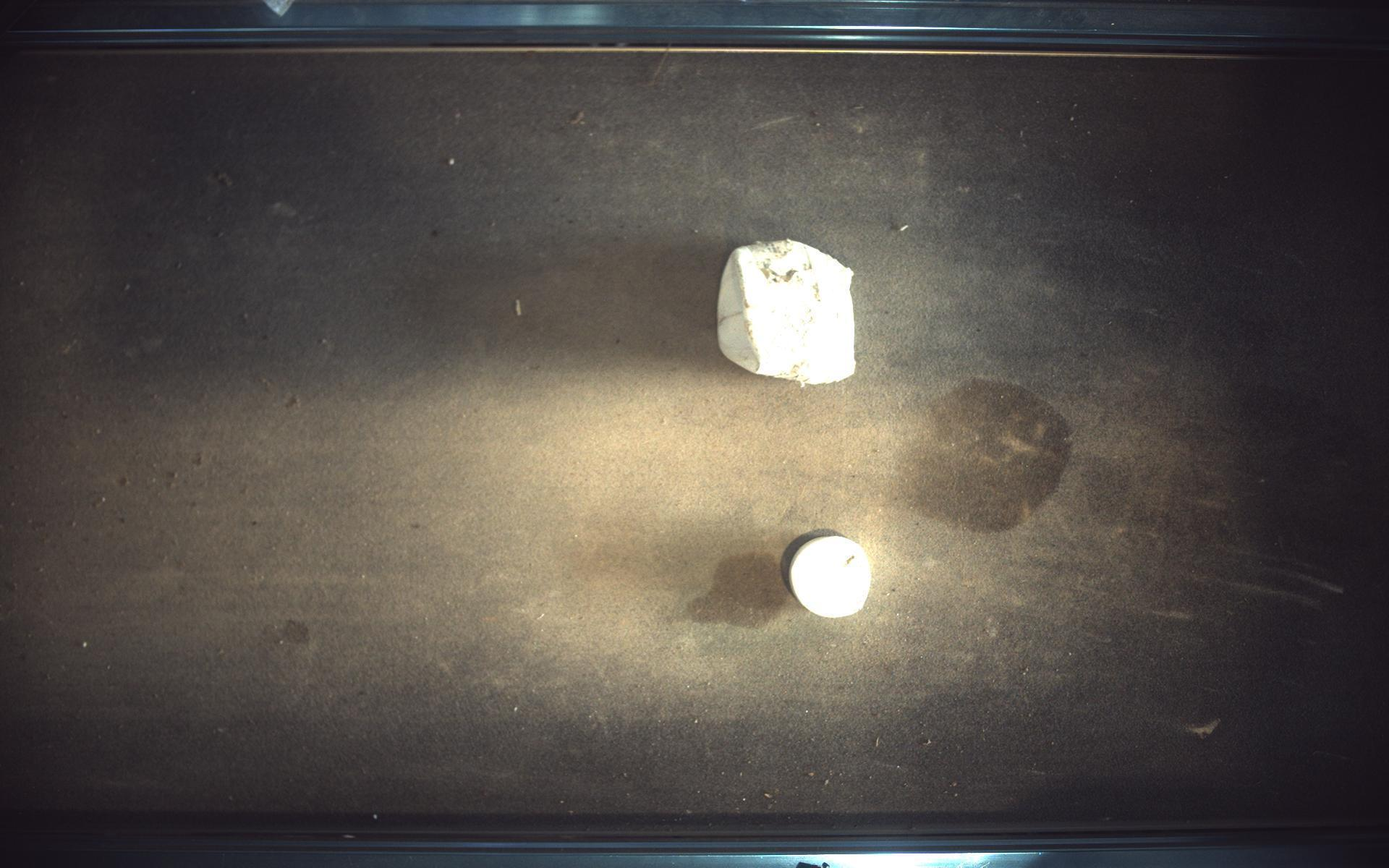general_w: (718, 239, 857, 384), (789, 535, 872, 619)
